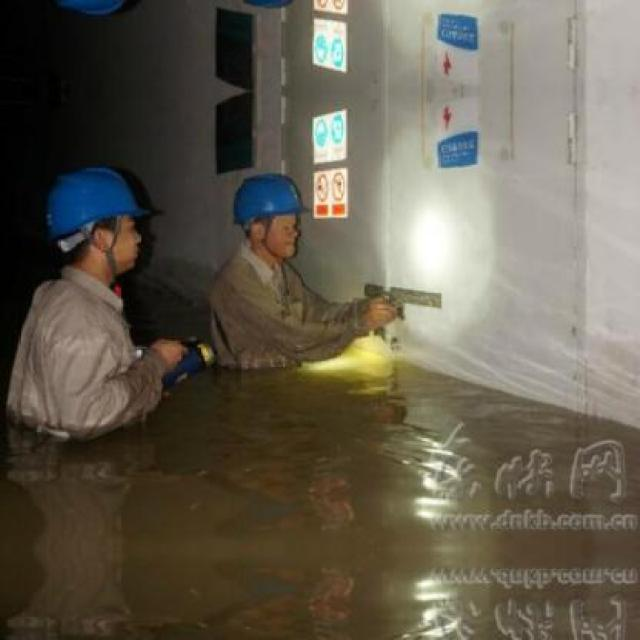helmet: (45, 157, 158, 276), (230, 166, 305, 258), (44, 0, 158, 25)
